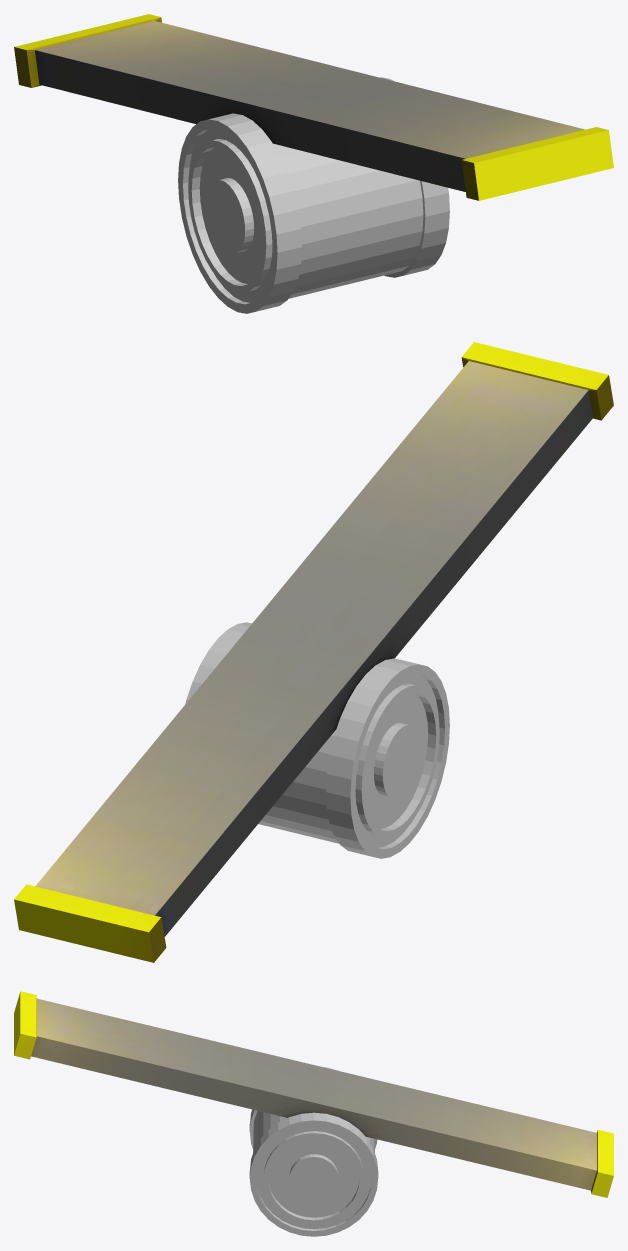
File: balance.fbx
The picture shows the model from 3 angles, top to bottom: view 1: azimuth 30°, elevation 25°; view 2: azimuth 150°, elevation 25°; view 3: azimuth 270°, elevation 25°; orthographic projection. The views are drawn at different scales.
Parts seen in each view (by area): view 1: Cube, Cylinder; view 2: Cube, Cylinder; view 3: Cube, Cylinder.
Part boxes in pixels (x1=…): Cube: x1=14, y1=14, x2=613, y2=200; Cylinder: x1=178, y1=77, x2=449, y2=313; Cube: x1=14, y1=342, x2=613, y2=962; Cylinder: x1=185, y1=622, x2=449, y2=858; Cube: x1=14, y1=991, x2=613, y2=1197; Cylinder: x1=249, y1=1067, x2=378, y2=1236.
Size of the model in its own units: 204 by 339 by 935.
